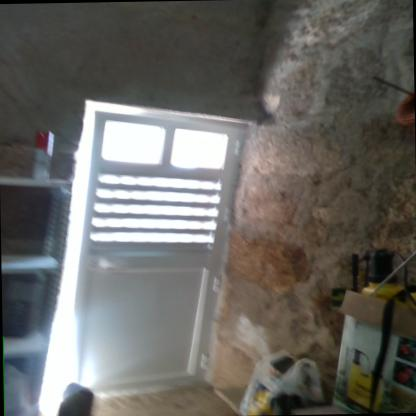closed: (75, 98, 254, 400)
